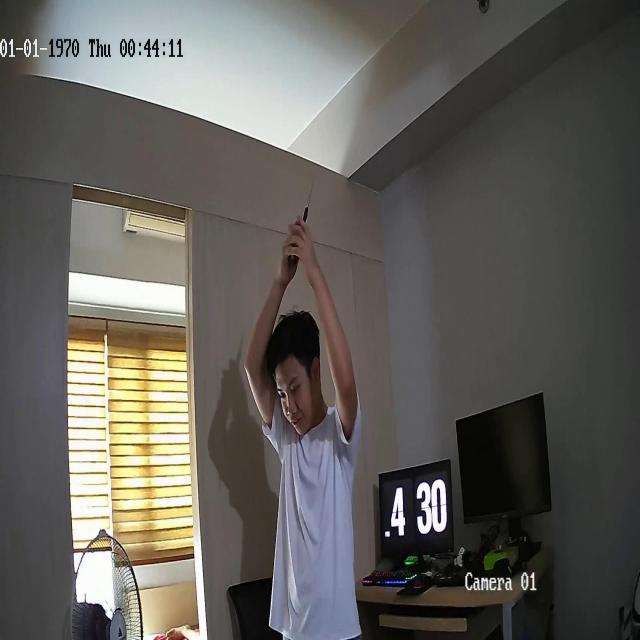scissor: (291, 184, 314, 264)
